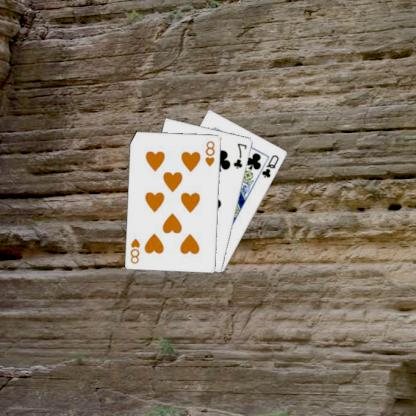7C: (232, 140, 250, 170)
8H: (204, 138, 219, 168), (130, 235, 143, 265)
QC: (261, 152, 282, 179)
